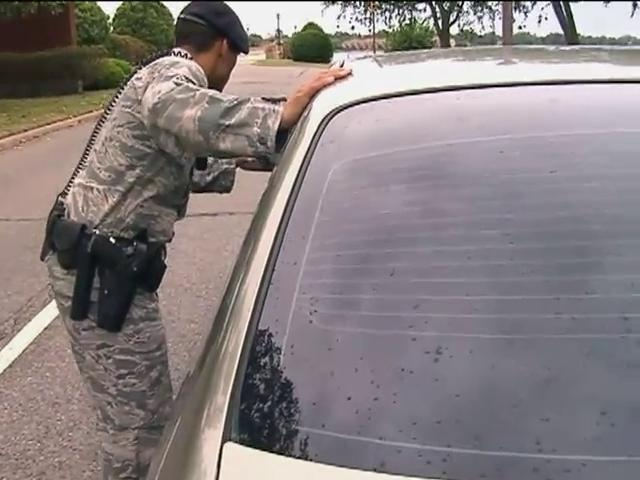victim: (38, 3, 359, 473)
